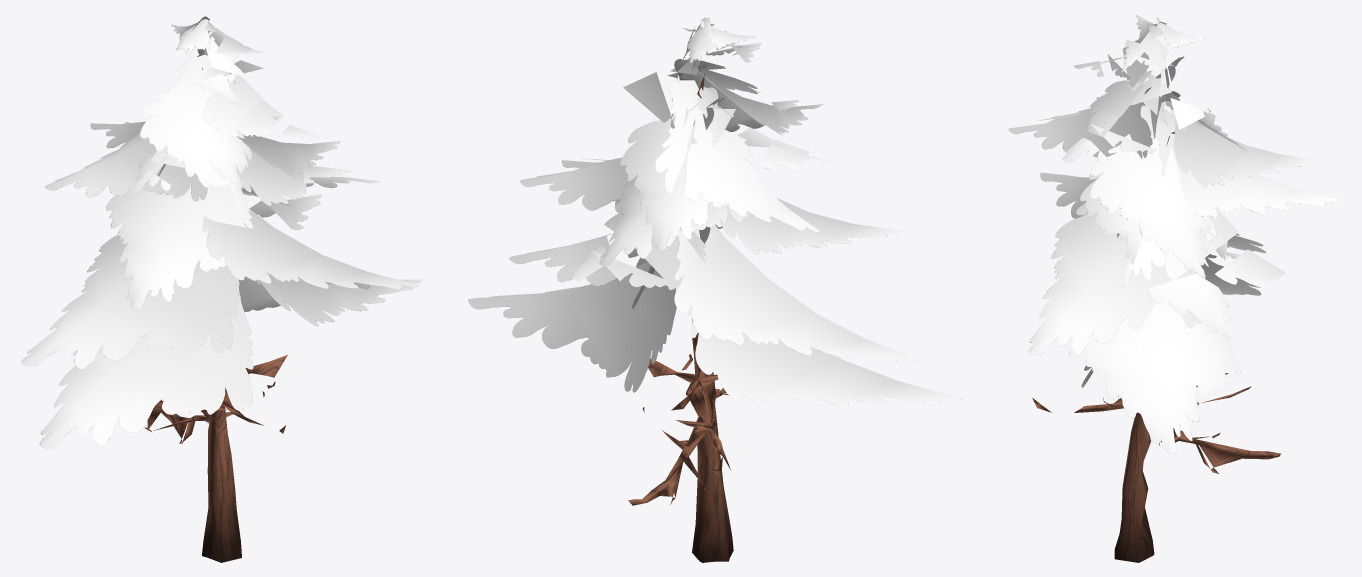
The model's file is Pine_1.gltf.
The picture shows the model from 3 angles, left to right: view 1: azimuth 30°, elevation 25°; view 2: azimuth 150°, elevation 25°; view 3: azimuth 270°, elevation 25°; orthographic projection. The views are drawn at different scales.
Parts seen in each view (by area): view 1: Pine_1; view 2: Pine_1; view 3: Pine_1.
Boxes of the visible parts, bbox=[...] form: Pine_1: bbox=[21, 16, 421, 562]; Pine_1: bbox=[468, 17, 962, 562]; Pine_1: bbox=[1008, 15, 1339, 562].
Bounding box in the file's own units: 6.48 × 7.38 × 4.32.
2 materials, 2 textured.
